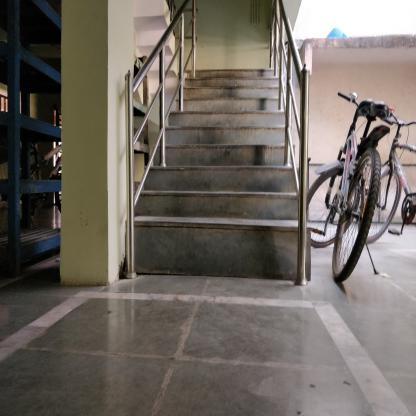stairs: (197, 68, 274, 285)
